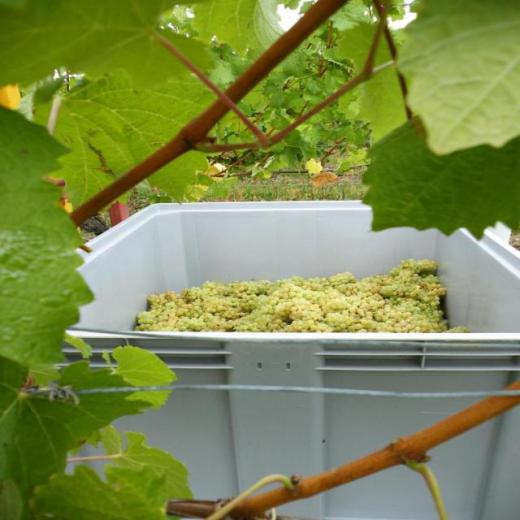Orange: (137, 260, 467, 332)
